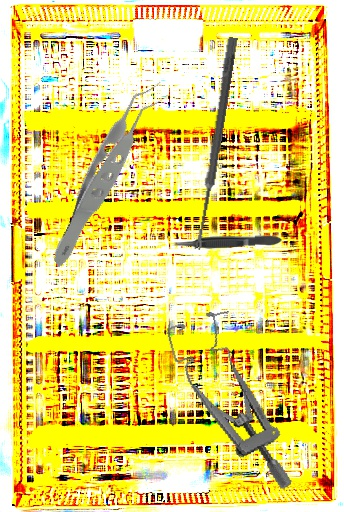Speculum: (163, 300, 296, 510)
Surgical Spoon: (193, 36, 238, 251)
Tissue Forceps: (2, 79, 217, 270), (170, 235, 283, 250)
